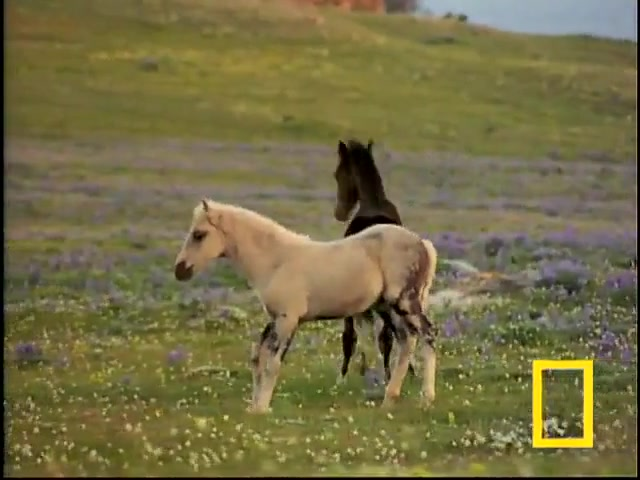horse: (174, 196, 446, 419)
